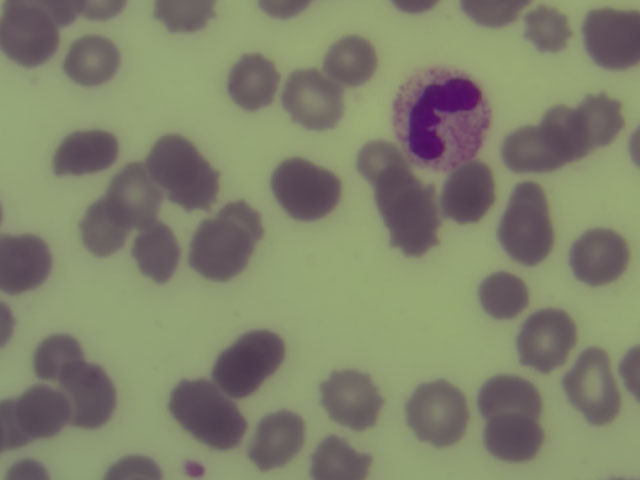Platelets: (176, 451, 210, 480)
RBC: (497, 191, 558, 260), (477, 371, 545, 424), (585, 8, 640, 67), (479, 409, 543, 459), (386, 195, 440, 248), (359, 148, 413, 201), (443, 165, 497, 218), (566, 360, 620, 413), (519, 311, 573, 364), (474, 269, 528, 322), (572, 229, 626, 282), (519, 6, 573, 59), (278, 162, 332, 215), (284, 71, 338, 124), (409, 385, 463, 438), (323, 370, 377, 423), (248, 412, 302, 465), (15, 386, 69, 439), (64, 368, 118, 421), (193, 222, 247, 275), (129, 227, 183, 280), (107, 168, 161, 221), (226, 55, 280, 108), (65, 35, 119, 88), (1, 11, 55, 64), (311, 432, 369, 480), (1, 233, 48, 291), (54, 131, 117, 174), (579, 92, 627, 148), (498, 126, 557, 170), (211, 348, 262, 396), (193, 401, 245, 448), (323, 36, 376, 82), (79, 202, 126, 253), (540, 105, 584, 159), (99, 446, 167, 480), (3, 1, 84, 28), (149, 136, 197, 181), (235, 326, 284, 369), (167, 164, 216, 207), (150, 1, 222, 30), (459, 1, 528, 31), (167, 379, 213, 420), (34, 336, 81, 376)
WBC: (394, 69, 488, 169)
